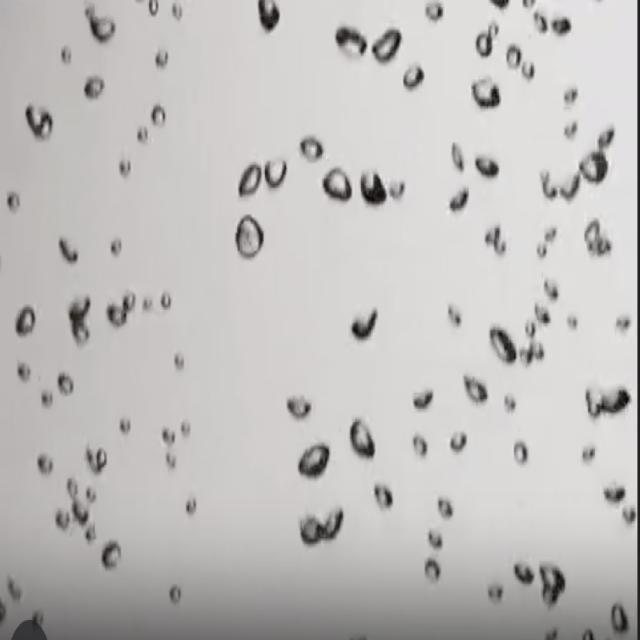bubble: (584, 383, 630, 419), (233, 210, 264, 260), (537, 559, 566, 610), (296, 438, 330, 480), (84, 1, 116, 45), (487, 322, 517, 366), (582, 214, 612, 258), (370, 24, 402, 65), (23, 100, 54, 142), (358, 165, 388, 208), (333, 22, 366, 61), (320, 164, 352, 204), (348, 414, 376, 459), (578, 146, 609, 186), (469, 74, 501, 111), (349, 303, 378, 342), (9, 613, 48, 640), (236, 160, 262, 200), (473, 19, 498, 60), (554, 166, 581, 203), (13, 301, 38, 339), (320, 504, 344, 542), (262, 155, 288, 190), (462, 371, 488, 406), (298, 511, 323, 546), (84, 441, 108, 476), (483, 222, 507, 257), (298, 132, 324, 164), (256, 0, 280, 34), (285, 390, 312, 420), (401, 60, 425, 93), (57, 232, 80, 266), (100, 537, 122, 572), (473, 151, 499, 180), (82, 72, 106, 102), (105, 299, 127, 330), (608, 600, 628, 634), (68, 294, 92, 322), (512, 557, 535, 586), (447, 184, 469, 214), (372, 480, 393, 511), (602, 480, 626, 506), (595, 122, 615, 153), (411, 385, 434, 411), (539, 166, 556, 201), (71, 318, 91, 347), (504, 40, 522, 72), (71, 496, 89, 528), (532, 298, 552, 326), (423, 554, 441, 584), (450, 138, 465, 174), (386, 175, 406, 201), (36, 449, 54, 477), (56, 369, 74, 397), (149, 101, 167, 129), (550, 13, 570, 38), (448, 428, 467, 454), (512, 437, 528, 467), (411, 431, 428, 459), (531, 8, 548, 36), (542, 274, 559, 302), (6, 572, 22, 601), (426, 525, 443, 552), (120, 288, 136, 316), (446, 300, 462, 328), (436, 494, 453, 520), (54, 505, 70, 532), (424, 0, 443, 22), (6, 188, 22, 214), (16, 359, 32, 383), (528, 338, 544, 362), (84, 519, 98, 545), (154, 46, 169, 70), (520, 58, 535, 82), (486, 581, 503, 602), (621, 504, 637, 526), (161, 424, 176, 447), (562, 84, 577, 107), (542, 223, 557, 246), (614, 312, 630, 333), (562, 119, 577, 140), (168, 582, 182, 604), (109, 235, 122, 257), (118, 156, 131, 178), (170, 0, 183, 22), (503, 391, 516, 413), (523, 317, 536, 339), (518, 344, 531, 366), (40, 388, 54, 408), (581, 443, 595, 463), (488, 18, 500, 41), (159, 289, 172, 310), (172, 350, 185, 371), (184, 494, 197, 515), (60, 44, 72, 66), (66, 477, 78, 499), (136, 124, 149, 144), (165, 449, 177, 470), (179, 418, 191, 438), (85, 484, 97, 504), (32, 608, 44, 628), (119, 415, 131, 434), (536, 240, 548, 259), (141, 295, 153, 313), (566, 313, 578, 331), (147, 0, 159, 18), (0, 597, 8, 624), (544, 626, 557, 640), (581, 626, 593, 640), (349, 632, 367, 640)
